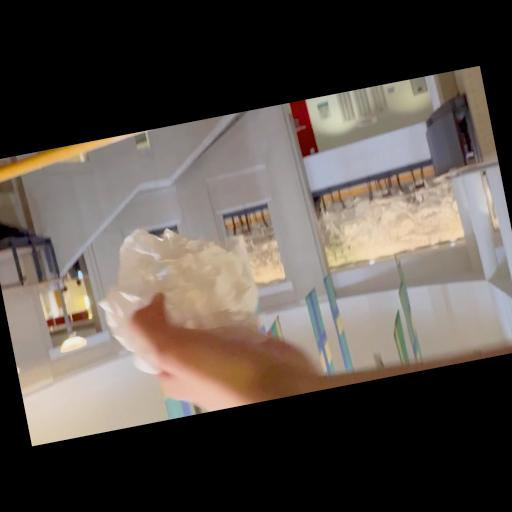napkin: (86, 208, 272, 386)
